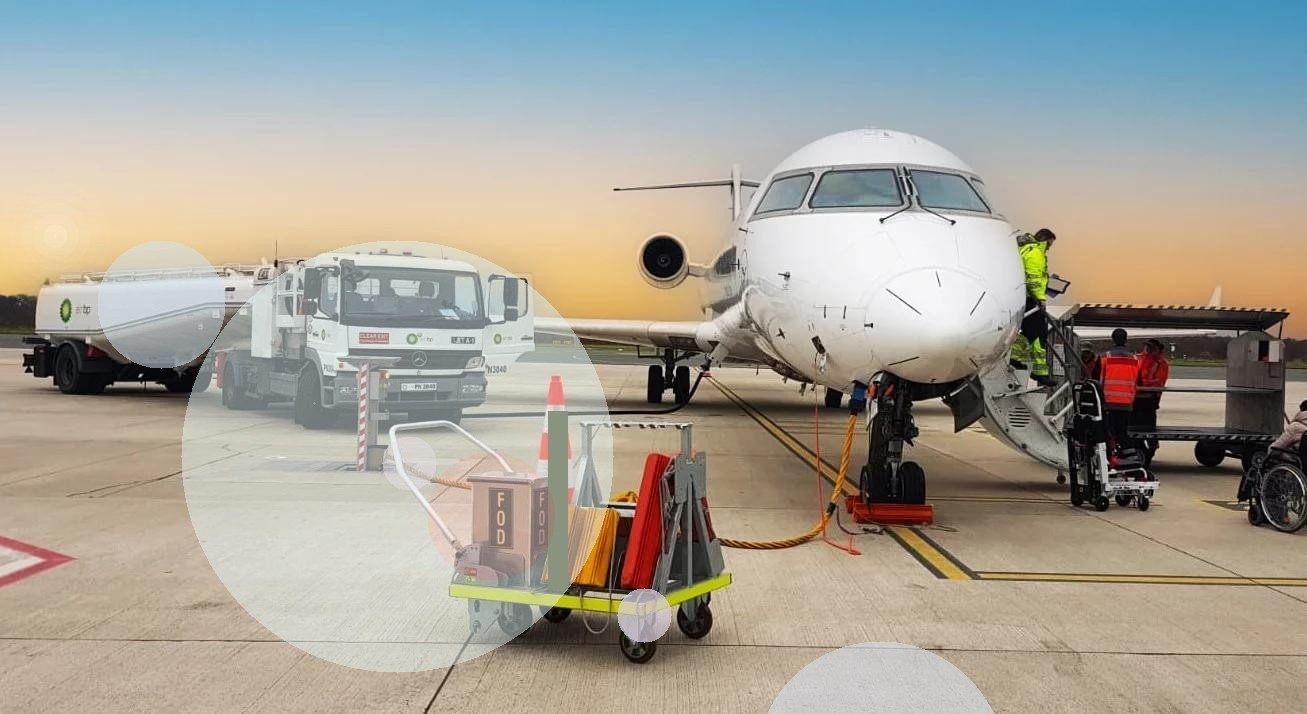chock: (619, 451, 680, 593), (540, 501, 587, 586), (571, 504, 618, 588)
wheel: (296, 366, 346, 429), (54, 344, 104, 396), (221, 355, 255, 408), (159, 360, 214, 392), (894, 460, 928, 506), (860, 458, 890, 505), (409, 405, 463, 430), (1193, 440, 1226, 467)
